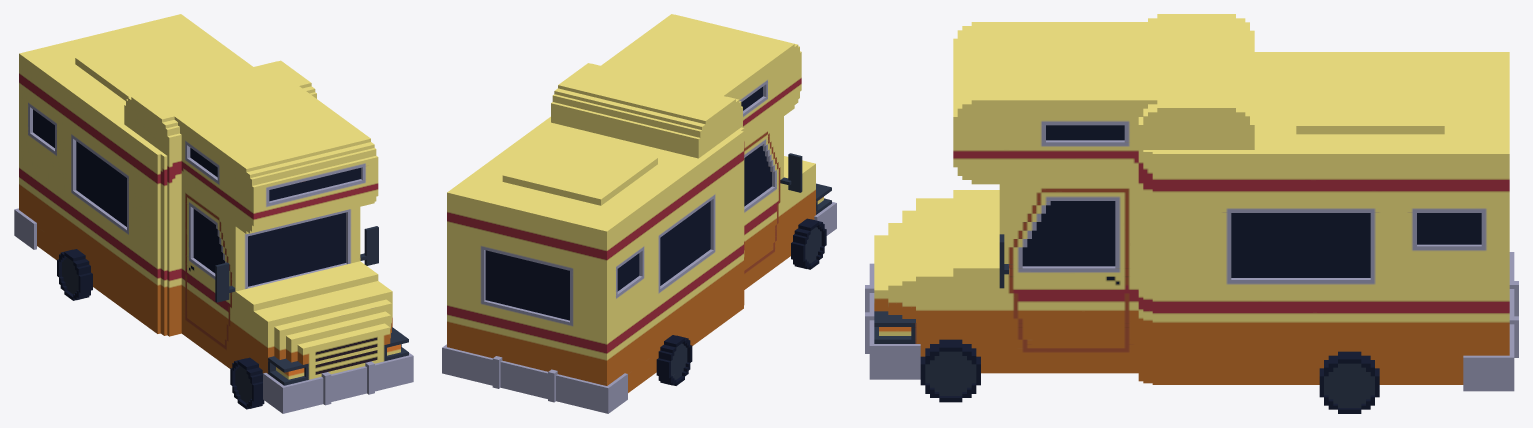
File: RV_car.fbx
3 views of the same model, side by side, from view 1: azimuth 30°, elevation 25°; view 2: azimuth 150°, elevation 25°; view 3: azimuth 270°, elevation 25° (orthographic). The views are drawn at different scales.
Parts seen in each view (by area): view 1: Object; view 2: Object; view 3: Object.
Boxes of the visible parts, left/top/right/bottom form: Object: left=14, top=14, right=413, bottom=413; Object: left=442, top=14, right=836, bottom=413; Object: left=865, top=14, right=1518, bottom=413.
Bounding box in the file's own units: 60 × 70 × 141.
